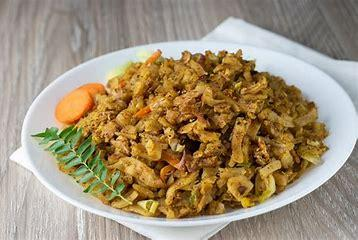Kottu: (44, 51, 345, 216)
